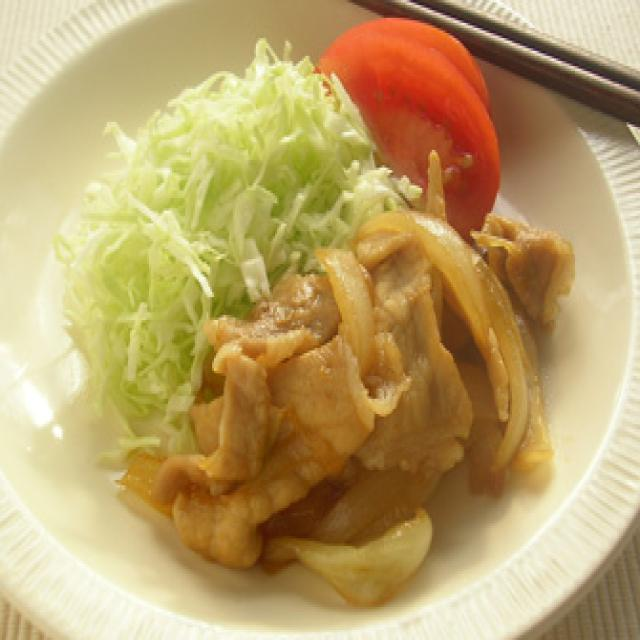猪肉菜式: (0, 0, 638, 640)
